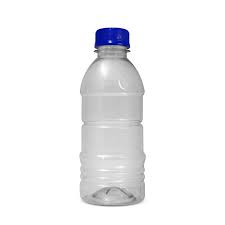Botella: (80, 29, 144, 204)
